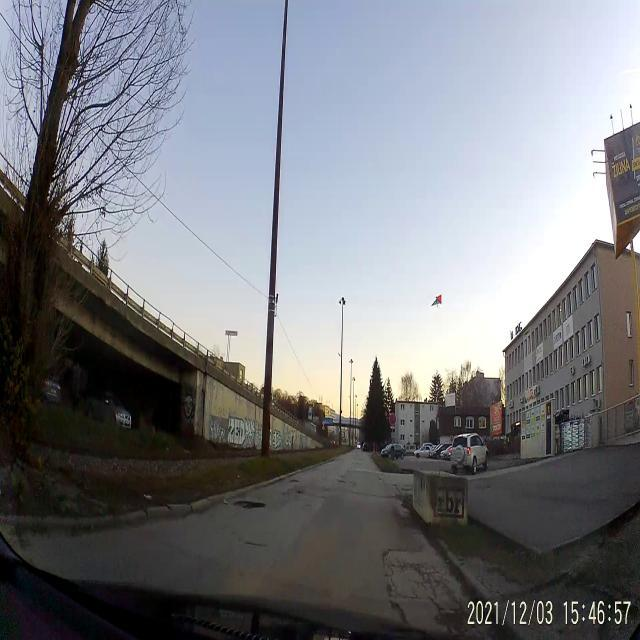Pothole: (233, 497, 266, 515), (335, 471, 348, 487), (286, 476, 302, 488), (292, 489, 308, 497)
